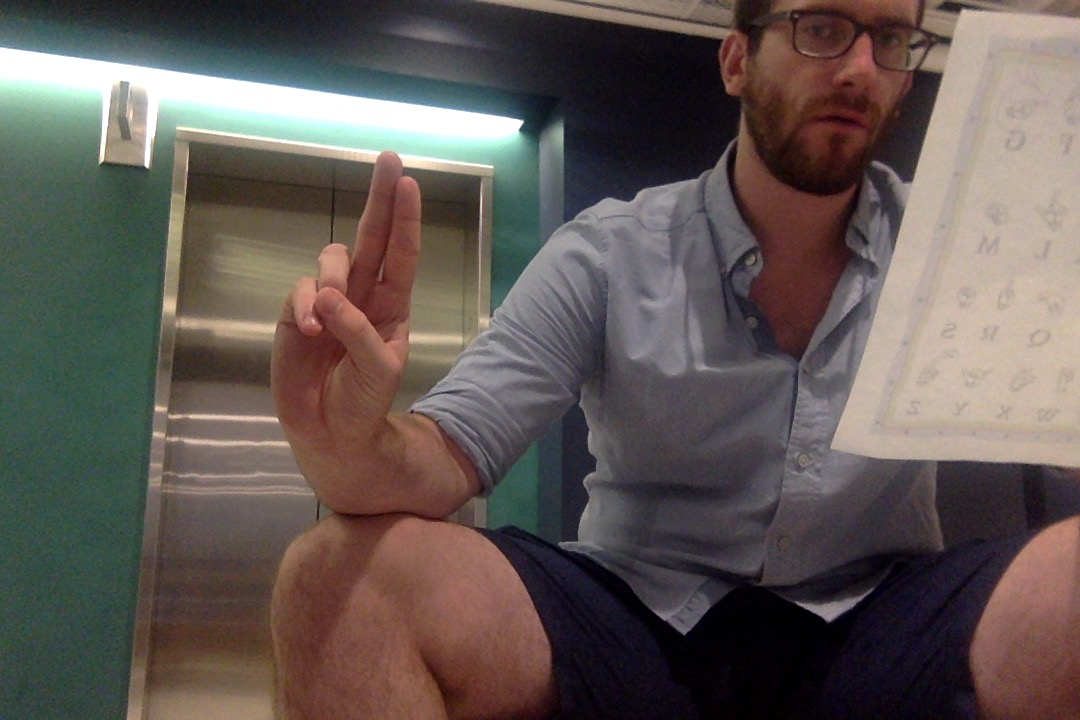u: (267, 148, 427, 462)
